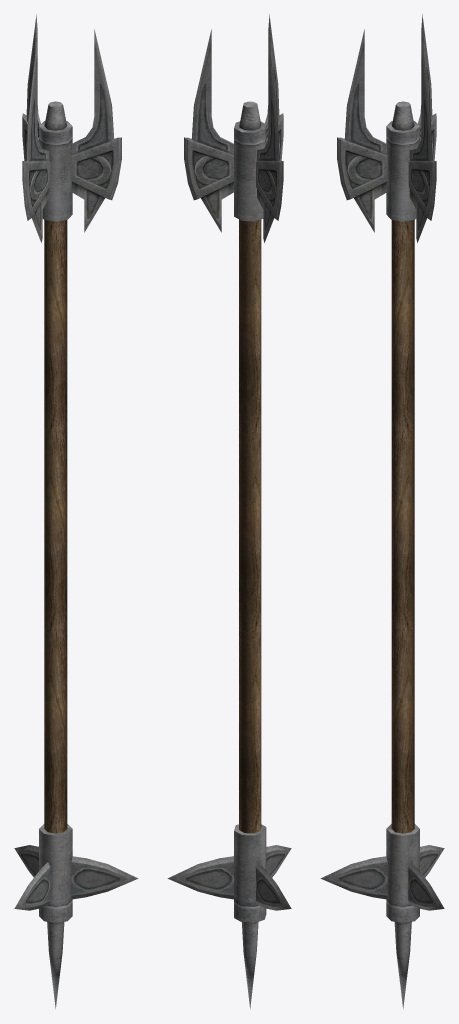
File: wp_mle_lance_nightsister_l0.fbx
The picture shows the model from 3 angles, left to right: view 1: azimuth 90°, elevation 25°; view 2: azimuth 150°, elevation 25°; view 3: azimuth 270°, elevation 25°; orthographic projection.
Parts seen in each view (by area): view 1: mesh_node; view 2: mesh_node; view 3: mesh_node.
Boxes of the visible parts, x1,y1,x2,y2 form: mesh_node: [14, 14, 138, 1009]; mesh_node: [167, 14, 291, 1009]; mesh_node: [320, 14, 444, 1009].
Size of the model in its own units: 0.2759 by 2.08 by 0.239.
